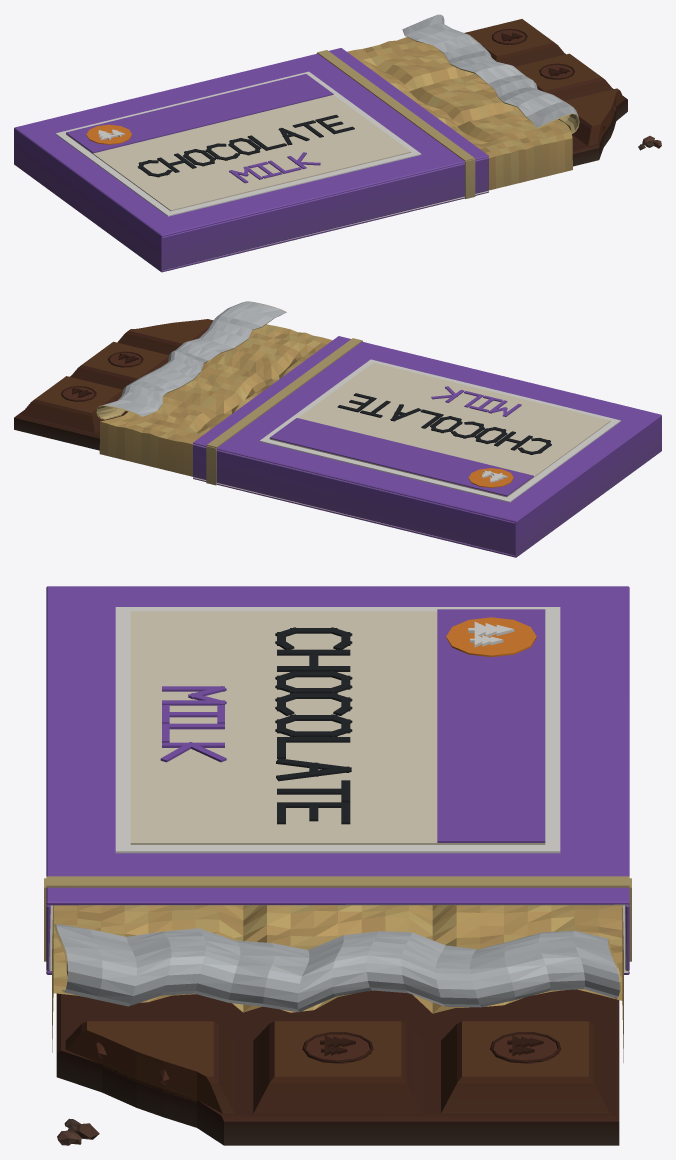
The model's file is gs-chocolate.glb.
3 renders of one model, top to bottom at view 1: azimuth 30°, elevation 25°; view 2: azimuth 150°, elevation 25°; view 3: azimuth 270°, elevation 25°, orthographic. The views are drawn at different scales.
Visible parts, largest first — view 1: gs_chocolate; view 2: gs_chocolate; view 3: gs_chocolate.
Part boxes in pixels (x1,y1,x2,y2): gs_chocolate: [14, 14, 661, 272]; gs_chocolate: [14, 301, 661, 557]; gs_chocolate: [44, 586, 631, 1145].
Bounding box in the file's own units: 0.1575 × 0.0164 × 0.0794.
